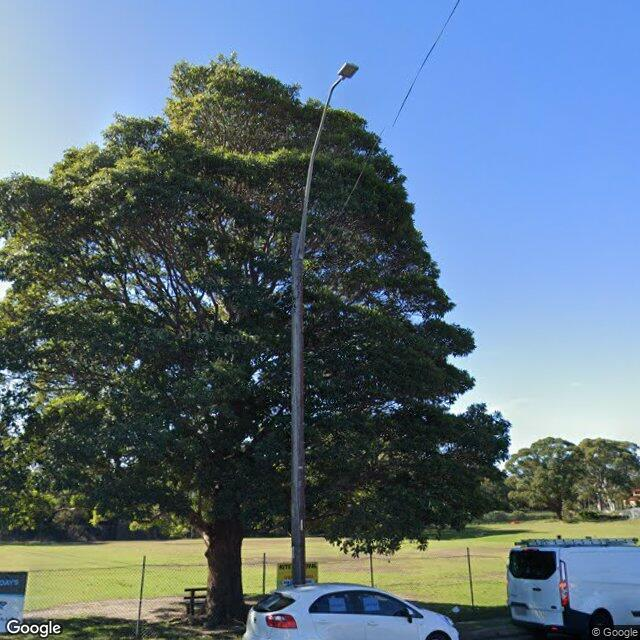streetlight: (294, 63, 358, 261)
timber-pole: (291, 232, 306, 584)
